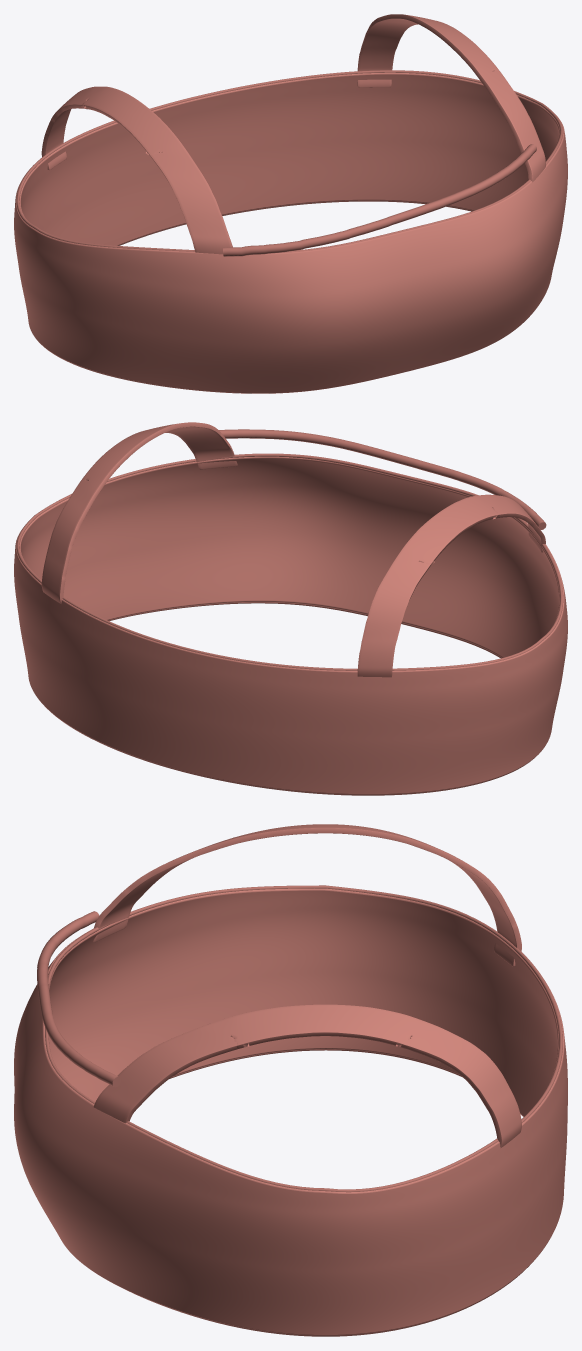
File: Feminine-strappy-top.glb
3 renders of one model, top to bottom at view 1: azimuth 30°, elevation 25°; view 2: azimuth 150°, elevation 25°; view 3: azimuth 270°, elevation 25°, orthographic. The views are drawn at different scales.
Visible parts, largest first — view 1: Clothing / strappy body, Clothing / strappy strap -1, Clothing / strappy strap 1, Crop / seated diagonal strap export, strappy body / bound edge.001 export, strappy body / bound edge export; view 2: Clothing / strappy body, Clothing / strappy strap -1, Clothing / strappy strap 1, strappy body / bound edge.001 export, Crop / seated diagonal strap export, strappy body / bound edge export; view 3: Clothing / strappy body, Clothing / strappy strap 1, Clothing / strappy strap -1, strappy body / bound edge.001 export, Crop / seated diagonal strap export, strappy body / bound edge export.
Boxes of the visible parts, box(x1,y1,x2,y2) form: Clothing / strappy body: box(14, 72, 567, 393); Clothing / strappy strap -1: box(41, 86, 232, 254); Clothing / strappy strap 1: box(357, 14, 545, 182); Crop / seated diagonal strap export: box(223, 144, 536, 256); strappy body / bound edge.001 export: box(16, 70, 563, 252); strappy body / bound edge export: box(44, 200, 472, 393); Clothing / strappy body: box(14, 453, 567, 794); Clothing / strappy strap -1: box(357, 494, 545, 677); Clothing / strappy strap 1: box(41, 422, 237, 603); strappy body / bound edge.001 export: box(16, 453, 563, 670); Crop / seated diagonal strap export: box(219, 429, 546, 529); strappy body / bound edge export: box(47, 602, 530, 795); Clothing / strappy body: box(14, 888, 567, 1335); Clothing / strappy strap 1: box(93, 1004, 521, 1147); Clothing / strappy strap -1: box(93, 824, 521, 966); strappy body / bound edge.001 export: box(45, 885, 562, 1192); Crop / seated diagonal strap export: box(37, 911, 120, 1087); strappy body / bound edge export: box(129, 1049, 528, 1336).
Size of the model in its own units: 0.6463 by 0.2721 by 0.493.
